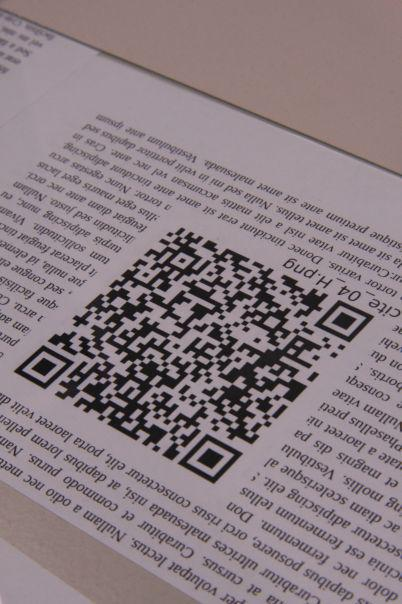Finder pattern: (177, 435, 242, 485), (313, 299, 376, 346), (16, 345, 73, 393)
